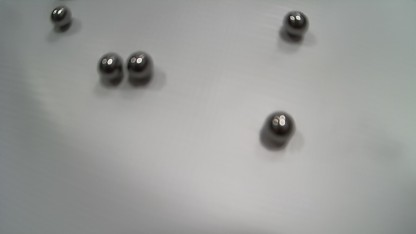ironball: (261, 111, 295, 147), (126, 51, 153, 85), (97, 52, 123, 86), (283, 11, 309, 37), (50, 5, 72, 28)
